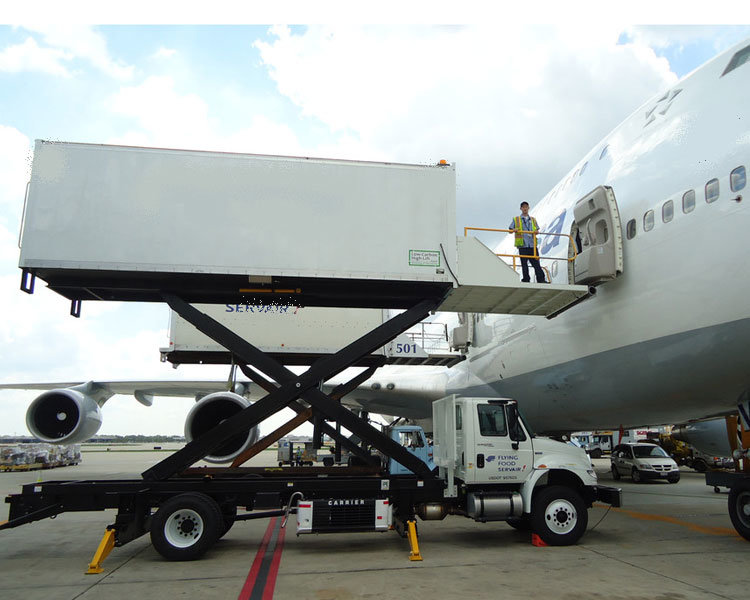Catering truck: (18, 105, 661, 574)
